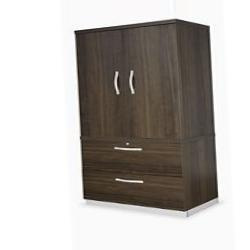Armario: (71, 24, 227, 215)
